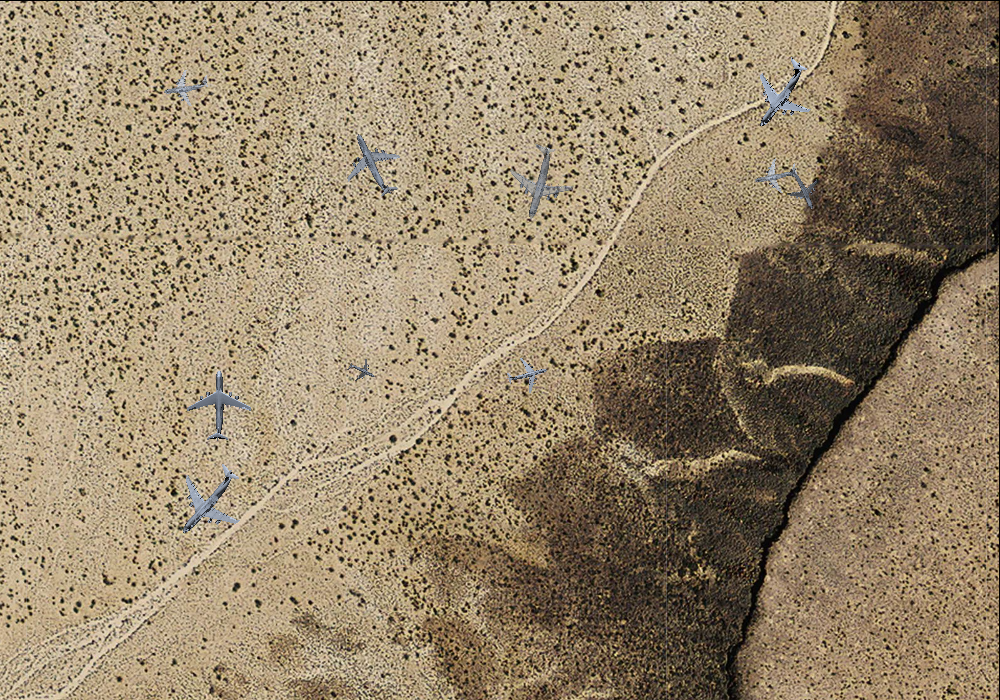plane: (152, 446, 262, 556), (730, 42, 832, 145), (494, 135, 583, 227), (330, 120, 417, 208), (184, 370, 251, 441), (774, 161, 828, 217), (159, 62, 211, 111), (750, 150, 801, 199), (502, 350, 551, 398), (342, 352, 380, 389)
